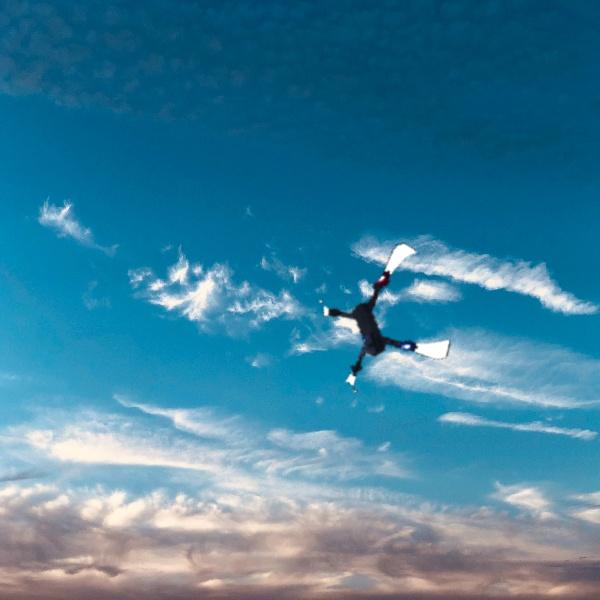drone: (315, 253, 454, 392)
